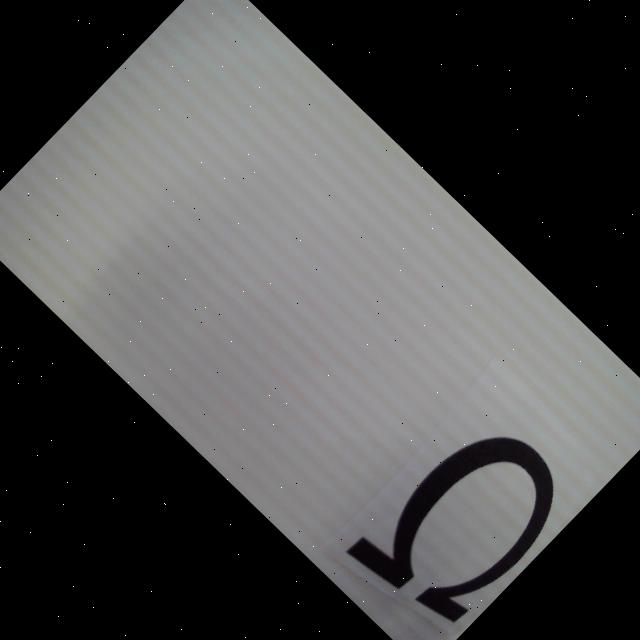OMEGA: (346, 405, 581, 640)
